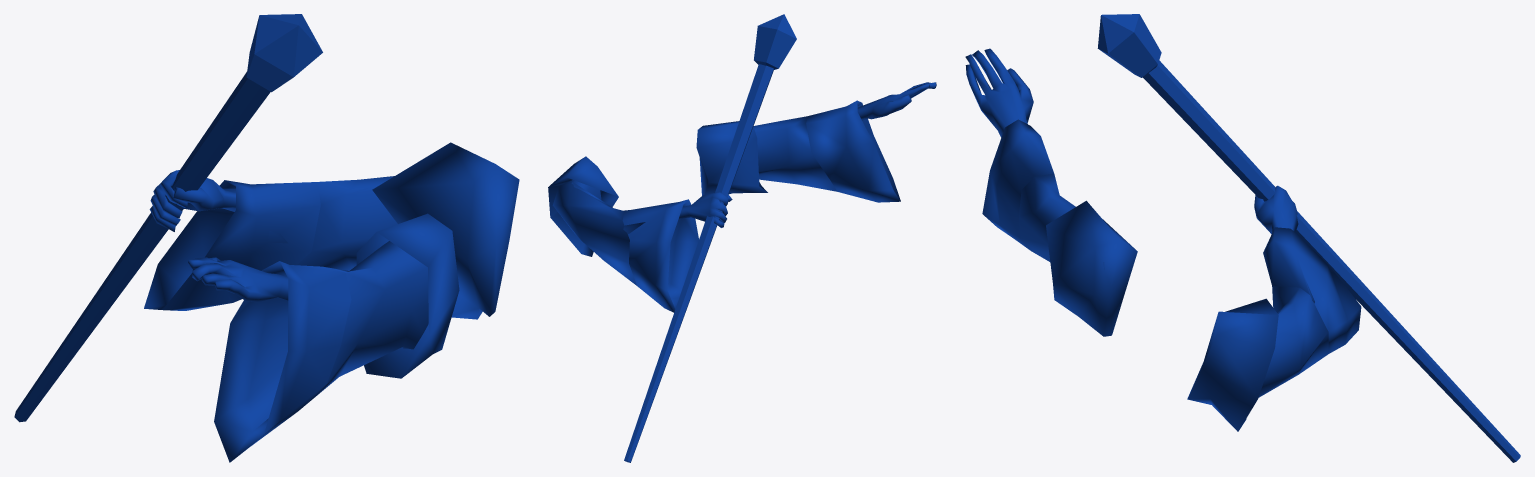
File: arm_000042.obj
The picture shows the model from 3 angles, left to right: view 1: azimuth 30°, elevation 25°; view 2: azimuth 150°, elevation 25°; view 3: azimuth 270°, elevation 25°; orthographic projection. The views are drawn at different scales.
Visible parts, largest first — view 1: Wizard_Plane.002; view 2: Wizard_Plane.002; view 3: Wizard_Plane.002.
Boxes of the visible parts, x1,y1,x2,y2 form: Wizard_Plane.002: (14, 14, 519, 462); Wizard_Plane.002: (548, 14, 936, 462); Wizard_Plane.002: (965, 14, 1520, 462).
Size of the model in its own units: 1.18 by 1.35 by 1.52.
